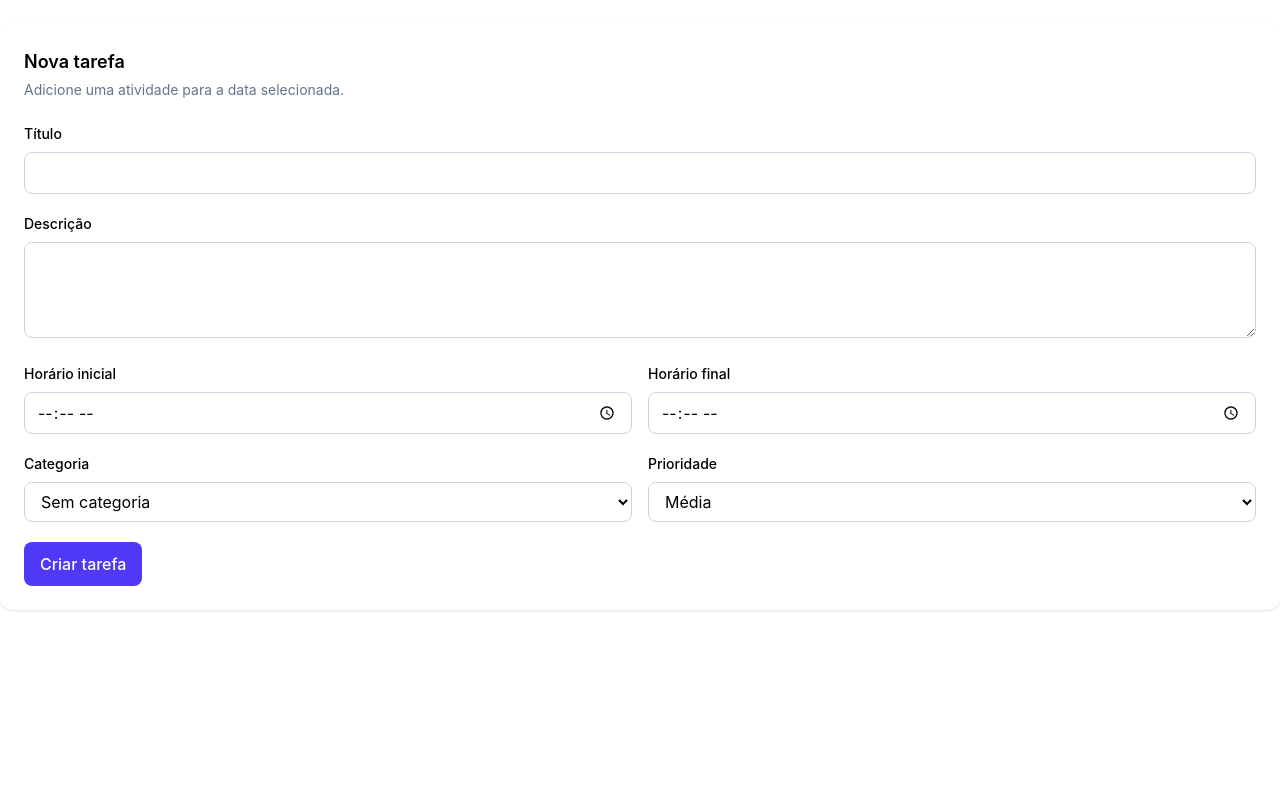
it: TaskForm › cria uma tarefa na data e categoria selecionadas
Type "  Estudar React  " into the field labelled "Título" at (640, 173), box [24,152,1256,194]
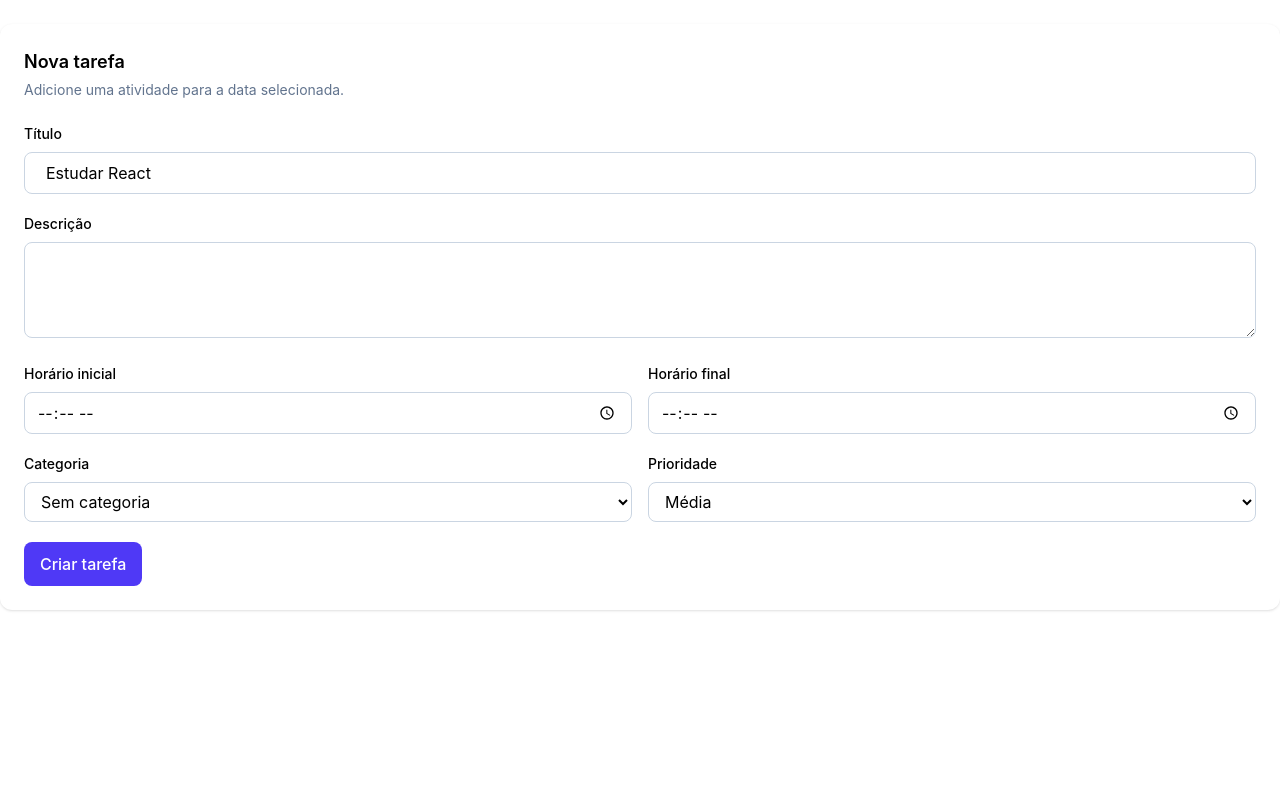
Select "Estudos" in the dropdown labelled "Categoria" at (328, 502), box [24,482,632,522]
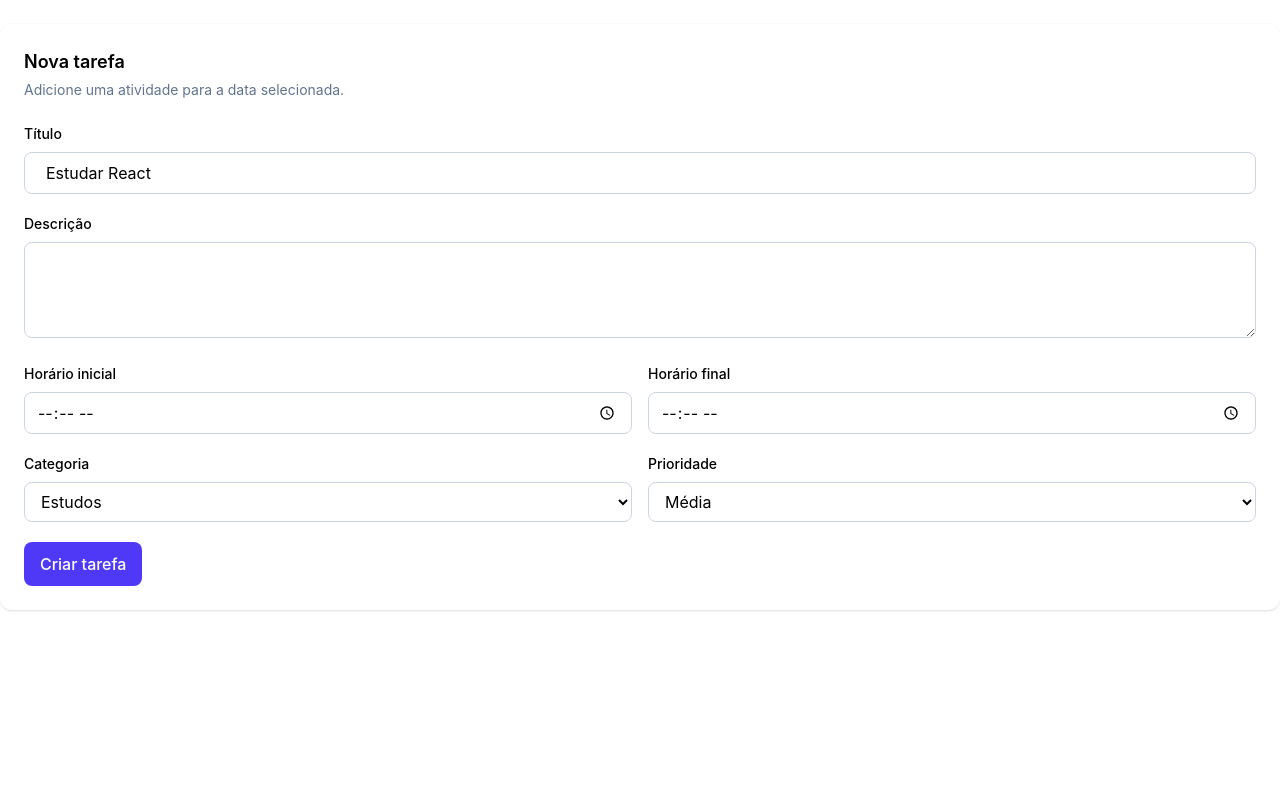
Click the button "Criar tarefa" at (83, 564), box [24,542,142,586]
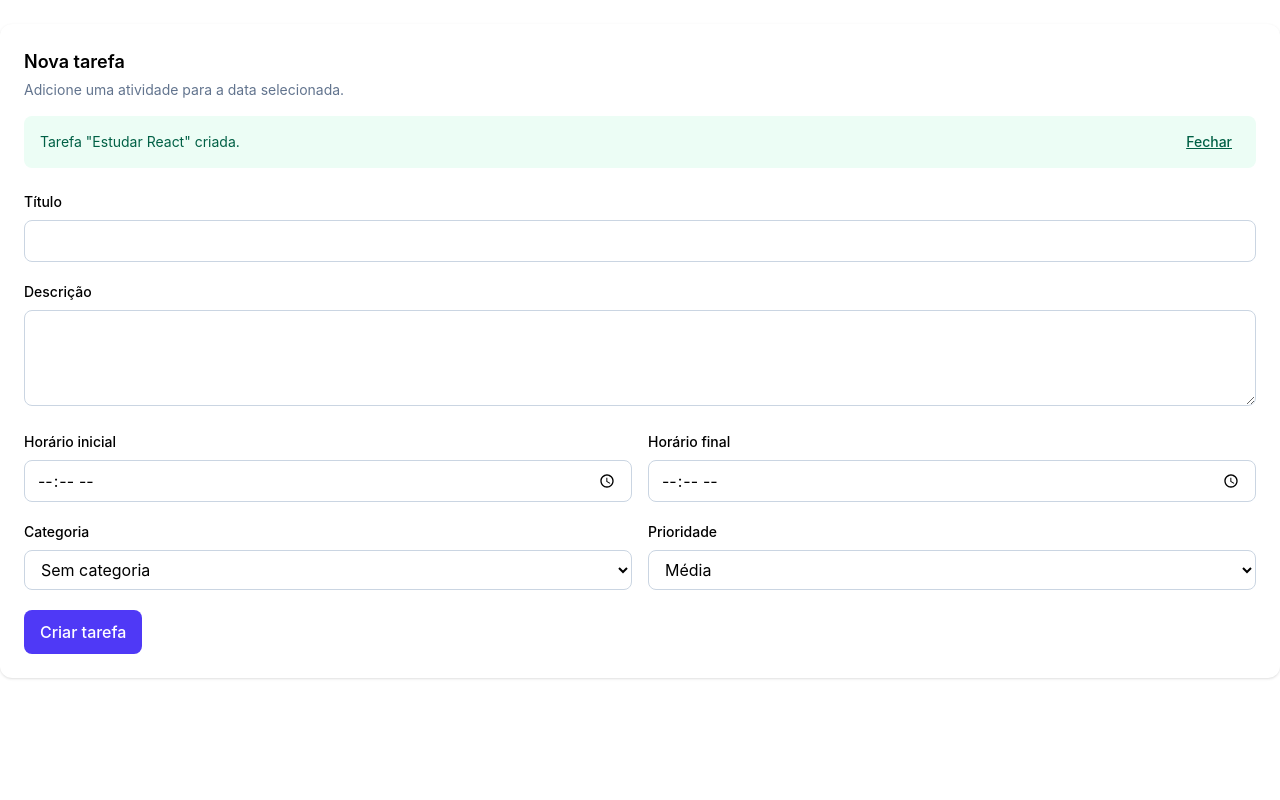
Check: the text "Tarefa \"Estudar React\" criada." is shown, box [40,132,240,152]
Click the button with aria-label "Dispensar mensagem de sucesso" at (1209, 142), box [1178,132,1240,152]
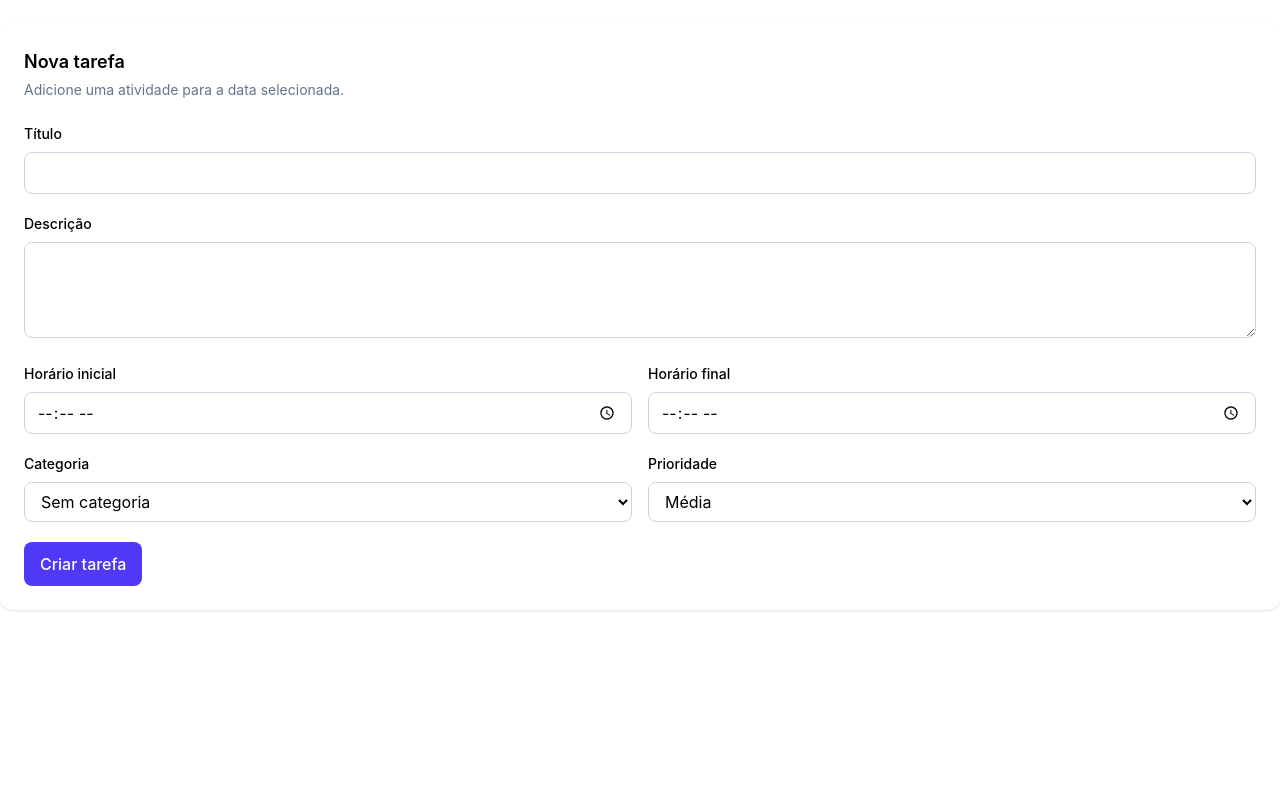
Check: the message "Tarefa \"Estudar React\" criada." is gone
